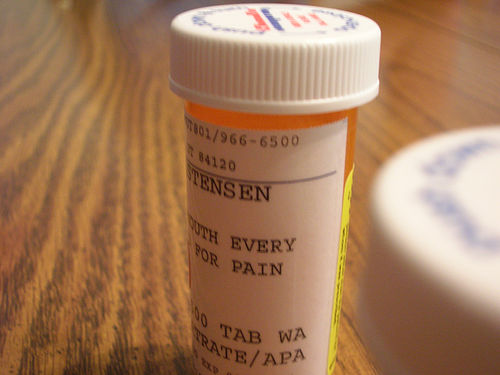pill bottle: (166, 2, 384, 375)
